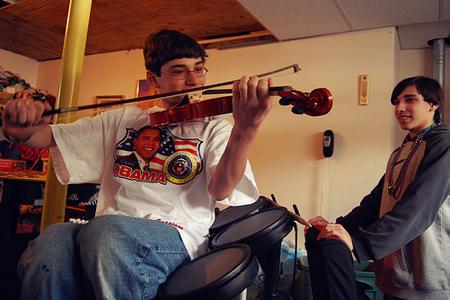person: (1, 31, 275, 299)
